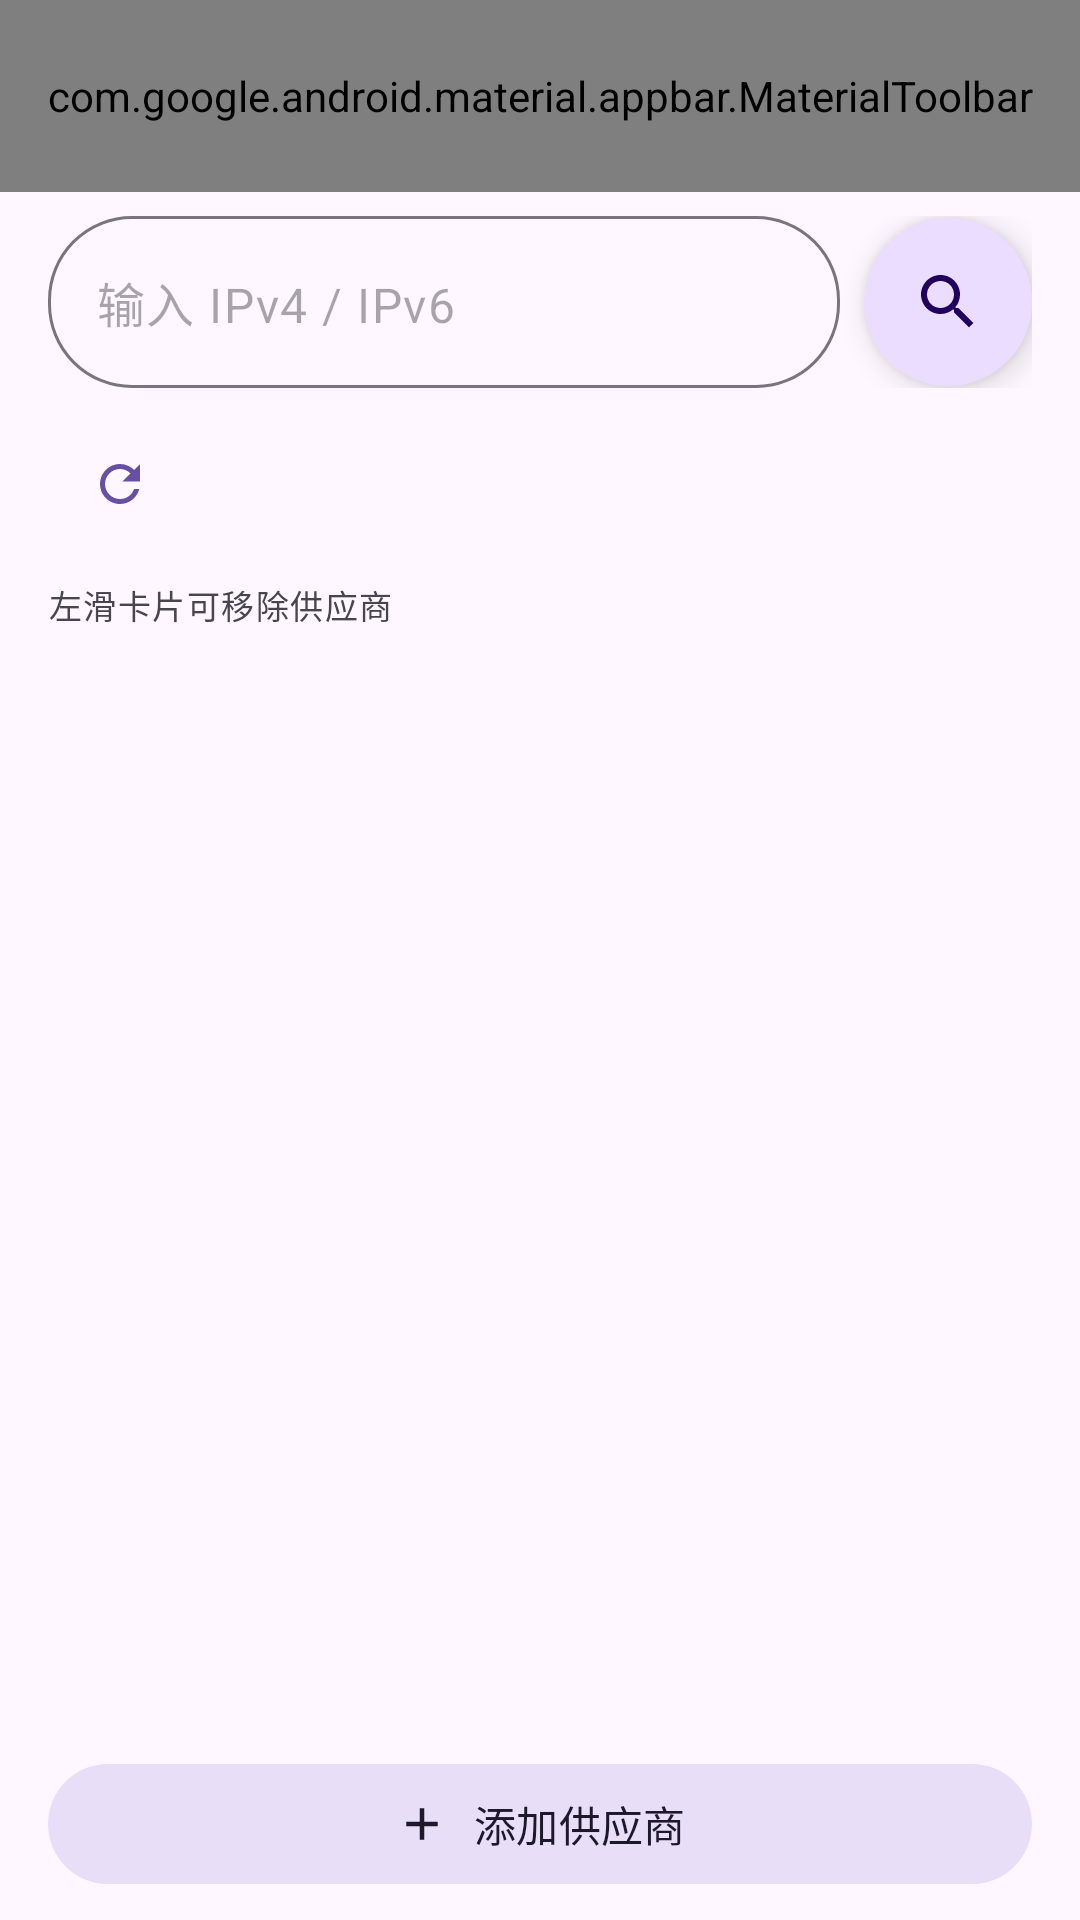

Locate icon controls on the screen. Image size 1080*1920, boxes as (x1, y1, x2, y2).
刷新本机 IP: (100, 464, 140, 504)
查询: (864, 218, 1032, 386)
